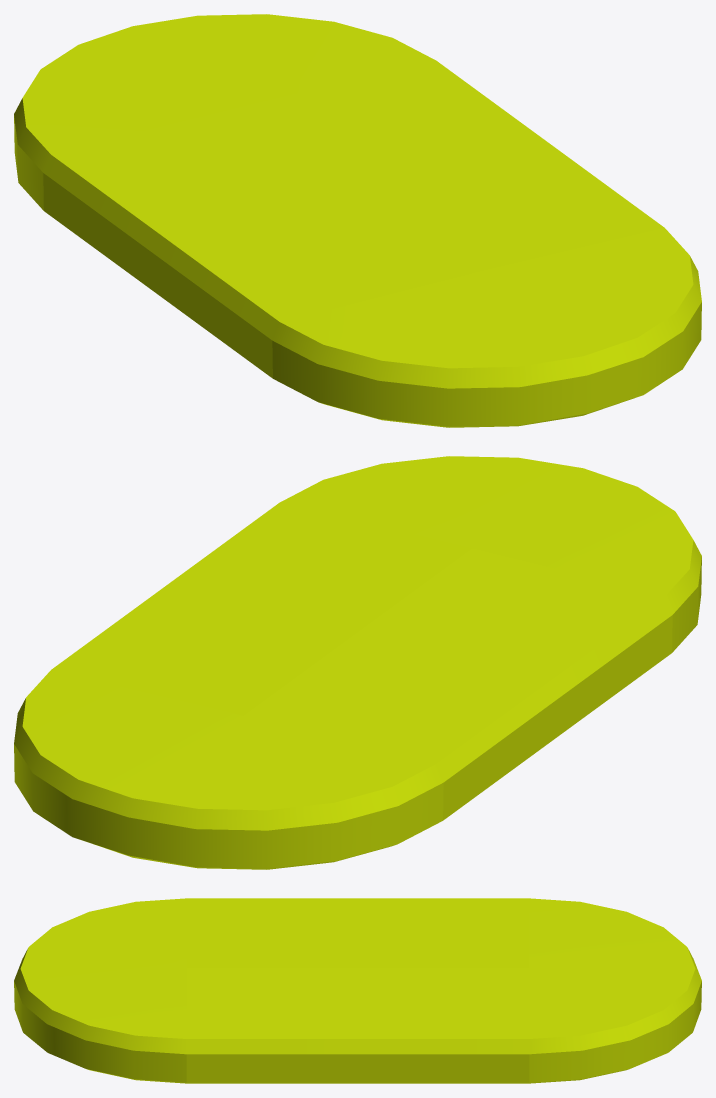
The model's file is Blocker_Board_Short.fbx.
The picture shows the model from 3 angles, top to bottom: view 1: azimuth 30°, elevation 25°; view 2: azimuth 150°, elevation 25°; view 3: azimuth 270°, elevation 25°; orthographic projection. The views are drawn at different scales.
Visible parts, largest first — view 1: Blocker_Board_Short; view 2: Blocker_Board_Short; view 3: Blocker_Board_Short.
Boxes of the visible parts, box(x1,y1,x2,y2) form: Blocker_Board_Short: box(14, 14, 701, 427); Blocker_Board_Short: box(14, 456, 701, 869); Blocker_Board_Short: box(14, 898, 701, 1083).
Size of the model in its own units: 2.28 by 0.3402 by 4.54.
